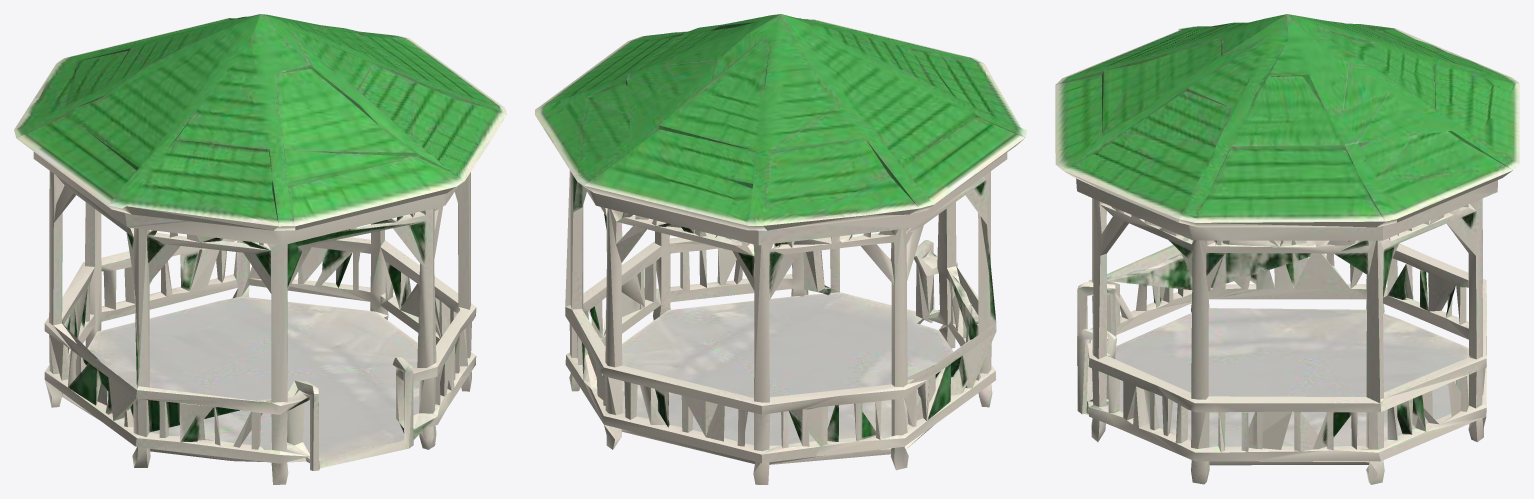
Rendered from gazebo.glb.
3 renders of one model, left to right at view 1: azimuth 30°, elevation 25°; view 2: azimuth 150°, elevation 25°; view 3: azimuth 270°, elevation 25°, orthographic.
Size of the model in its own units: 1.89 by 1.74 by 1.88.
1 material, 1 textured.
